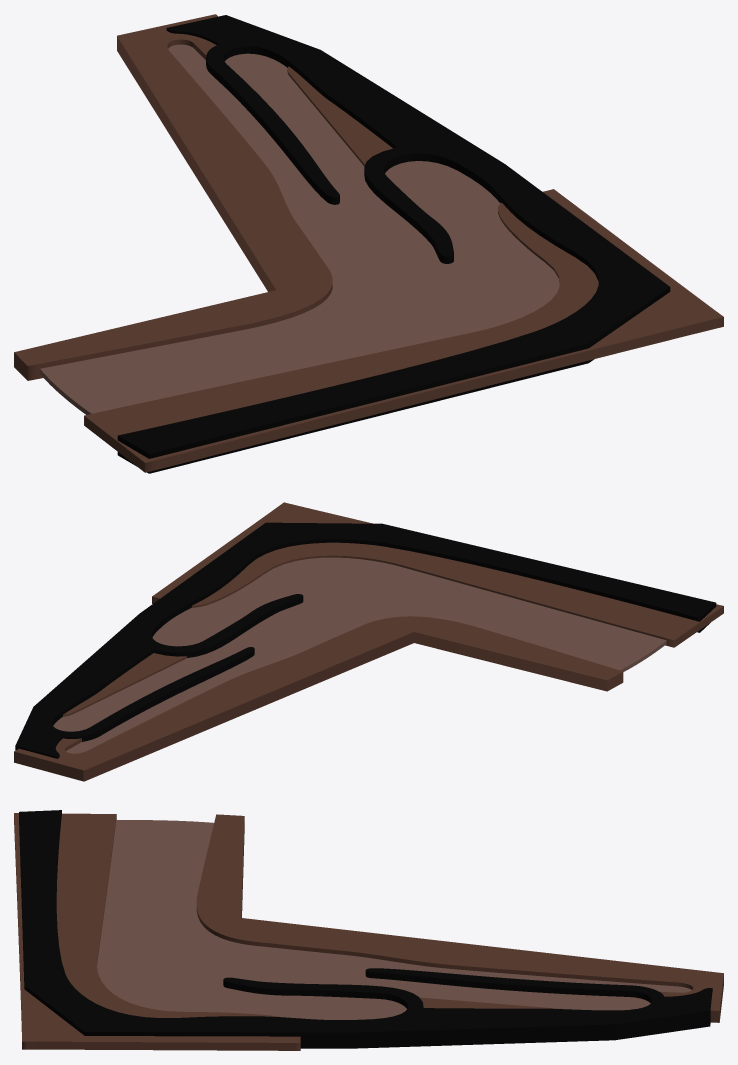
The model's file is emoji_u1faf8_1f3ff.glb.
3 views of the same model, one above another, from view 1: azimuth 30°, elevation 25°; view 2: azimuth 150°, elevation 25°; view 3: azimuth 270°, elevation 25° (orthographic). The views are drawn at different scales.
Visible parts, largest first — view 1: emoji_u1faf8_1f3ff; view 2: emoji_u1faf8_1f3ff; view 3: emoji_u1faf8_1f3ff.
Part boxes in pixels (bbox=[...]): emoji_u1faf8_1f3ff: bbox=[14, 14, 723, 473]; emoji_u1faf8_1f3ff: bbox=[14, 502, 723, 781]; emoji_u1faf8_1f3ff: bbox=[14, 810, 723, 1050].
Size of the model in its own units: 0.0248 by 0.0008 by 0.0324.
